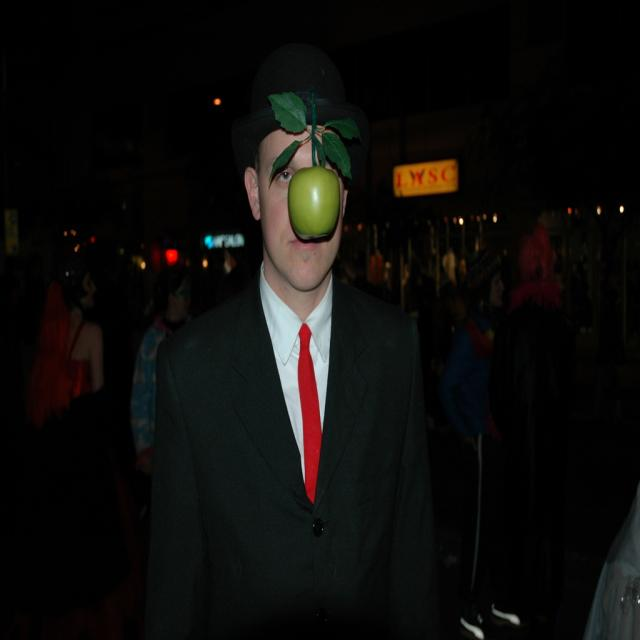Healty Apple: (286, 162, 346, 259)
